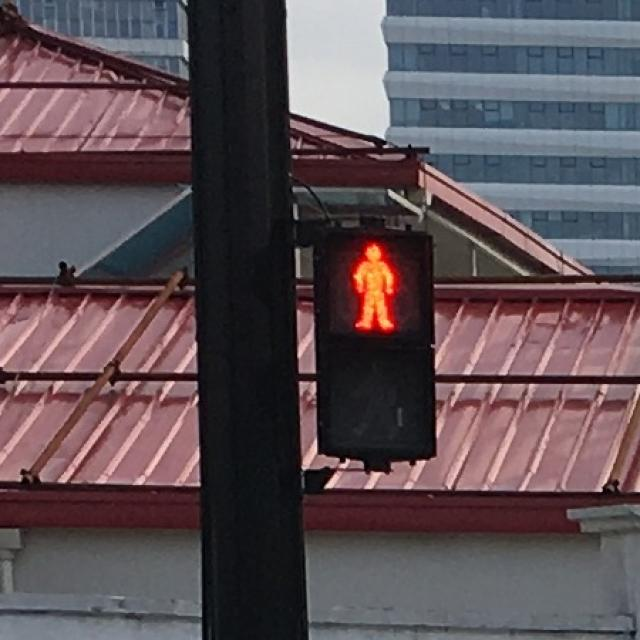red_light: (324, 232, 427, 334)
